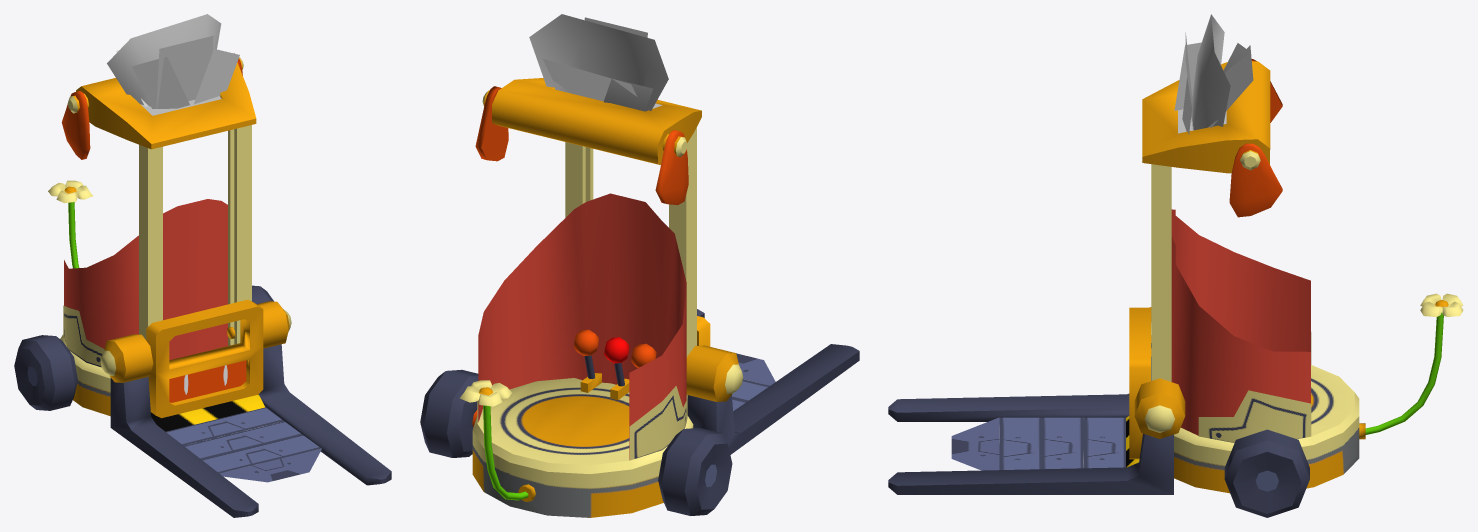
The model's file is ForkLift_MDL.fbx.
3 renders of one model, left to right at view 1: azimuth 30°, elevation 25°; view 2: azimuth 150°, elevation 25°; view 3: azimuth 270°, elevation 25°, orthographic. The views are drawn at different scales.
Parts seen in each view (by area): view 1: Body, Lift, Grass, Wheels, Extend_3, Extend_2, Extend_1, Extend_4, Ear, Tail; view 2: Body, Grass, Wheels, Lift, Ear, Tail, Extend_4, Control_2, Control_1; view 3: Body, Lift, Wheels, Grass, Ear, Extend_3, Extend_2, Extend_1, Tail, Extend_4.
Part boxes in pixels (x1=…): Body: x1=60, y1=57, x2=256, y2=416; Lift: x1=100, y1=299, x2=391, y2=517; Grass: x1=107, y1=14, x2=239, y2=115; Wheels: x1=14, y1=285, x2=273, y2=410; Extend_3: x1=201, y1=435, x2=321, y2=473; Extend_2: x1=184, y1=421, x2=302, y2=459; Extend_1: x1=166, y1=407, x2=283, y2=445; Extend_4: x1=219, y1=448, x2=321, y2=482; Ear: x1=61, y1=53, x2=242, y2=159; Tail: x1=48, y1=180, x2=92, y2=268; Body: x1=472, y1=78, x2=701, y2=517; Grass: x1=529, y1=14, x2=668, y2=111; Wheels: x1=420, y1=369, x2=732, y2=515; Lift: x1=686, y1=309, x2=859, y2=454; Ear: x1=475, y1=86, x2=688, y2=205; Tail: x1=459, y1=380, x2=528, y2=500; Extend_4: x1=736, y1=353, x2=775, y2=385; Control_2: x1=604, y1=337, x2=629, y2=386; Control_1: x1=573, y1=329, x2=598, y2=379; Body: x1=1142, y1=61, x2=1365, y2=493; Lift: x1=888, y1=307, x2=1185, y2=494; Wheels: x1=1224, y1=429, x2=1309, y2=517; Grass: x1=1174, y1=14, x2=1253, y2=134; Ear: x1=1229, y1=59, x2=1282, y2=217; Extend_3: x1=999, y1=417, x2=1041, y2=469; Extend_2: x1=1041, y1=417, x2=1083, y2=469; Extend_1: x1=1083, y1=417, x2=1125, y2=468; Tail: x1=1365, y1=293, x2=1463, y2=434; Extend_4: x1=951, y1=417, x2=999, y2=470.
Bounding box in the file's own units: 85.47 × 130 × 159.
